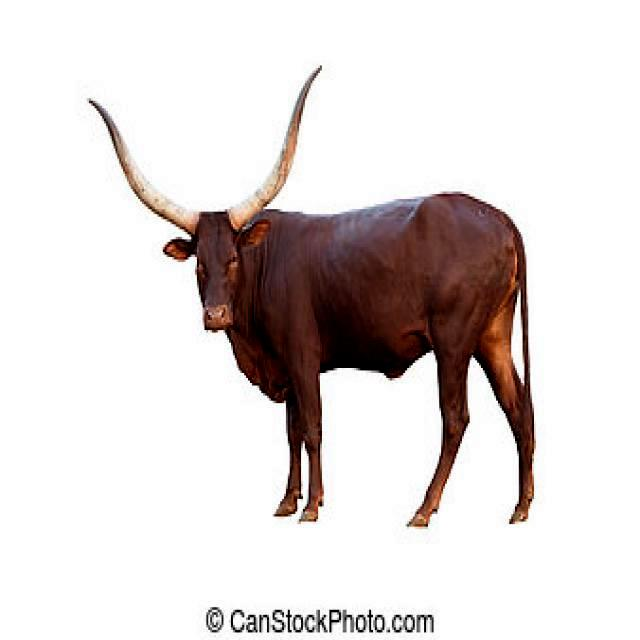COW: (91, 68, 534, 526)
